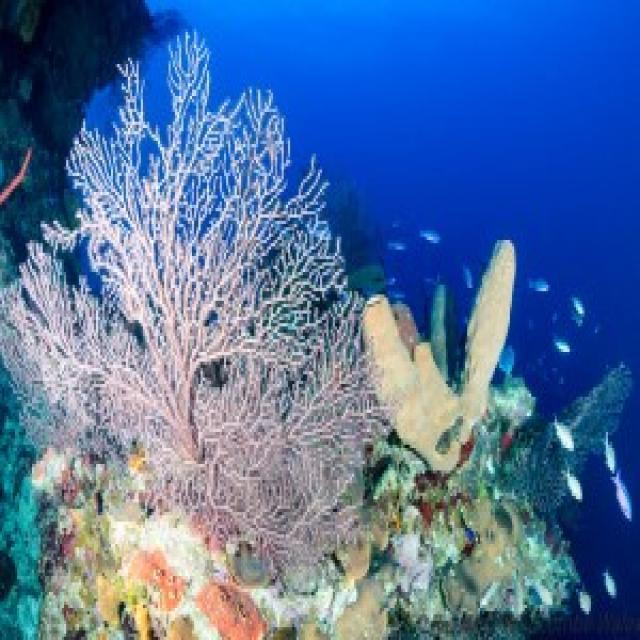Healthy: (1, 244, 383, 571), (69, 36, 327, 459), (364, 241, 515, 471), (404, 487, 575, 619), (502, 366, 630, 513)
